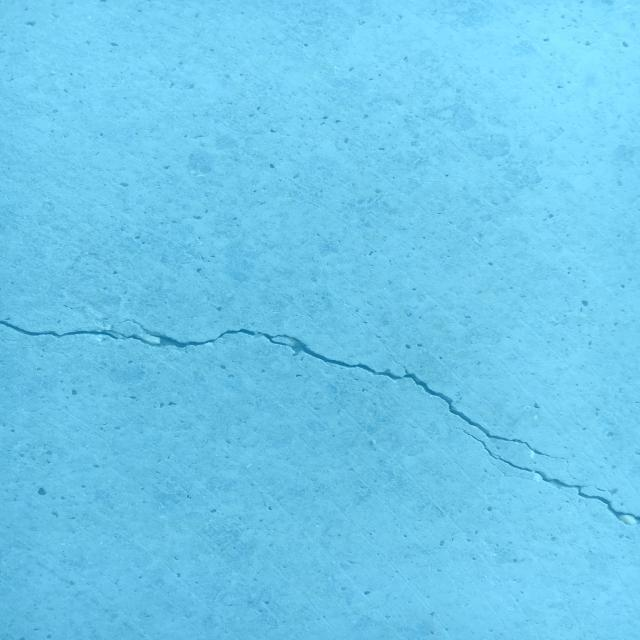crack: (0, 318, 579, 482), (445, 422, 640, 526), (488, 460, 524, 480), (0, 338, 23, 348)
